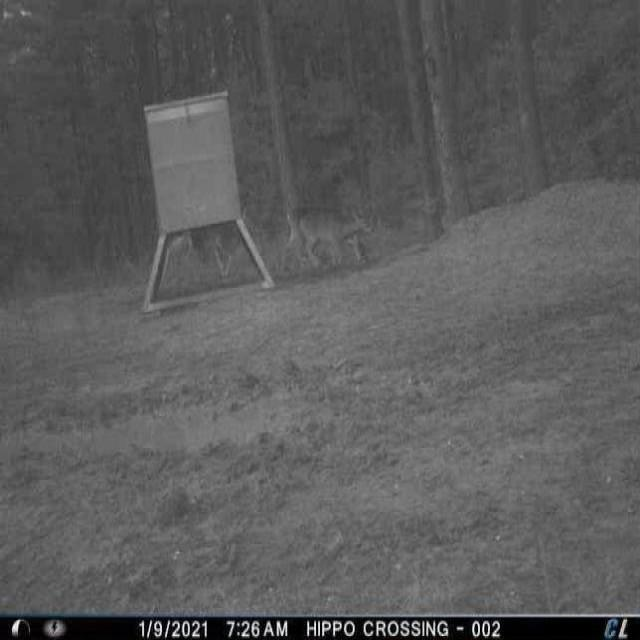deer: (291, 197, 379, 279)
